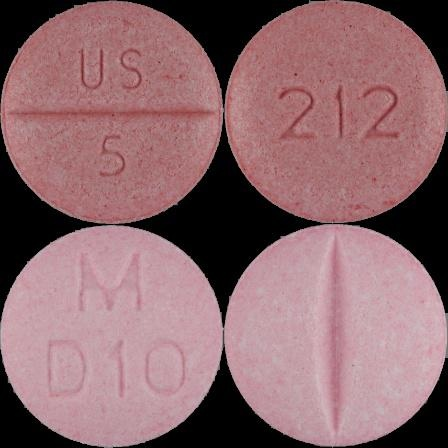55154-5623: (0, 0, 224, 224)
